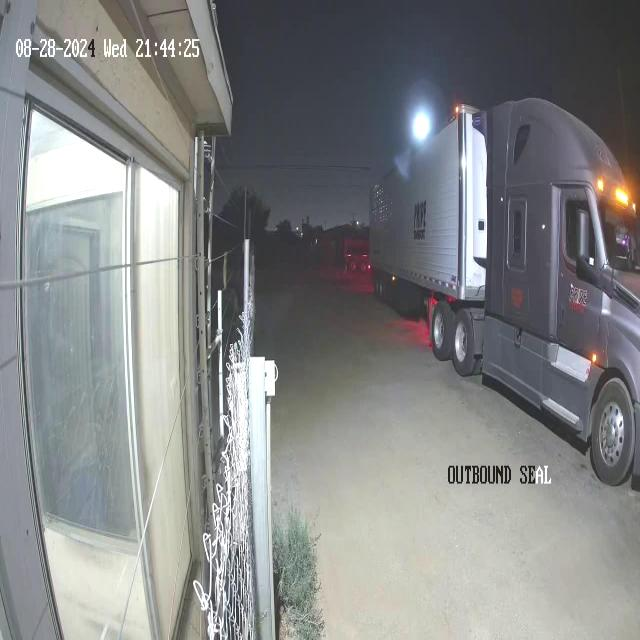CONTAINER: (368, 96, 489, 297)
